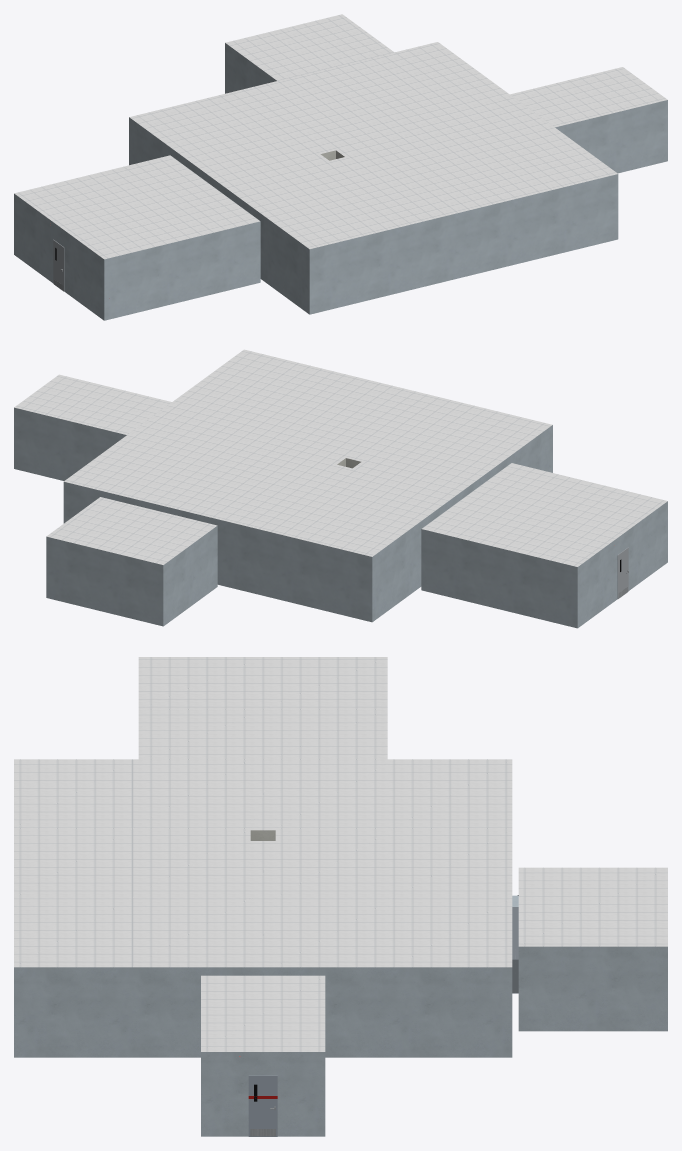
The model's file is checkpoint_2.glb.
The picture shows the model from 3 angles, top to bottom: view 1: azimuth 30°, elevation 25°; view 2: azimuth 150°, elevation 25°; view 3: azimuth 270°, elevation 25°; orthographic projection. The views are drawn at different scales.
Parts seen in each view (by area): view 1: Ceiling_Tile, Wall_Checkpoint, DoorLeaf_corridors_a; view 2: Ceiling_Tile, Wall_Checkpoint, DoorLeaf_corridors_a; view 3: Ceiling_Tile, Wall_Checkpoint, DoorLeaf_corridors_b.
Boxes of the visible parts, <box> form: Ceiling_Tile: <box>14,14,667,259</box>; Wall_Checkpoint: <box>14,43,667,320</box>; DoorLeaf_corridors_a: <box>53,239,64,291</box>; Ceiling_Tile: <box>14,349,667,566</box>; Wall_Checkpoint: <box>14,407,667,628</box>; DoorLeaf_corridors_a: <box>617,547,628,598</box>; Ceiling_Tile: <box>14,657,667,1051</box>; Wall_Checkpoint: <box>14,895,667,1136</box>; DoorLeaf_corridors_b: <box>248,1075,277,1136</box>.
Size of the model in its own units: 30.15 by 3.2 by 21.
27 materials, 11 textured.
